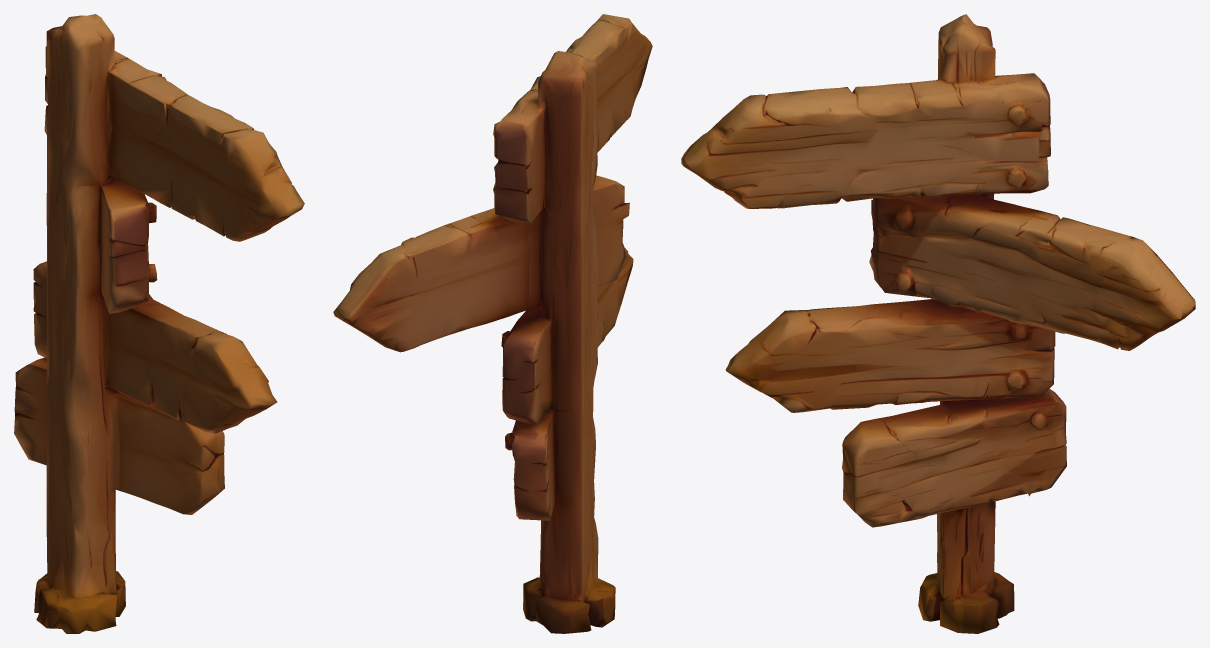
File: signpost.glb
The picture shows the model from 3 angles, left to right: view 1: azimuth 30°, elevation 25°; view 2: azimuth 150°, elevation 25°; view 3: azimuth 270°, elevation 25°; orthographic projection. The views are drawn at different scales.
Visible parts, largest first — view 1: tripo_node_1d370776-a95f-469b-9408-60a7b18b1dd9; view 2: tripo_node_1d370776-a95f-469b-9408-60a7b18b1dd9; view 3: tripo_node_1d370776-a95f-469b-9408-60a7b18b1dd9.
Boxes of the visible parts, x1,y1,x2,y2 form: tripo_node_1d370776-a95f-469b-9408-60a7b18b1dd9: (14,14,304,633); tripo_node_1d370776-a95f-469b-9408-60a7b18b1dd9: (333,14,652,633); tripo_node_1d370776-a95f-469b-9408-60a7b18b1dd9: (681,14,1195,633).
Size of the model in its own units: 0.3225 by 1 by 0.7853.
1 material, 1 textured.
